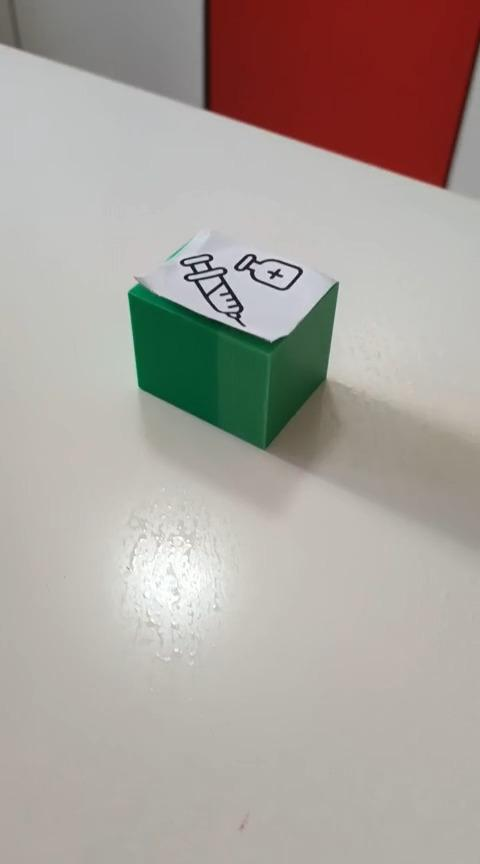antiseptic cream: (126, 227, 340, 450)
